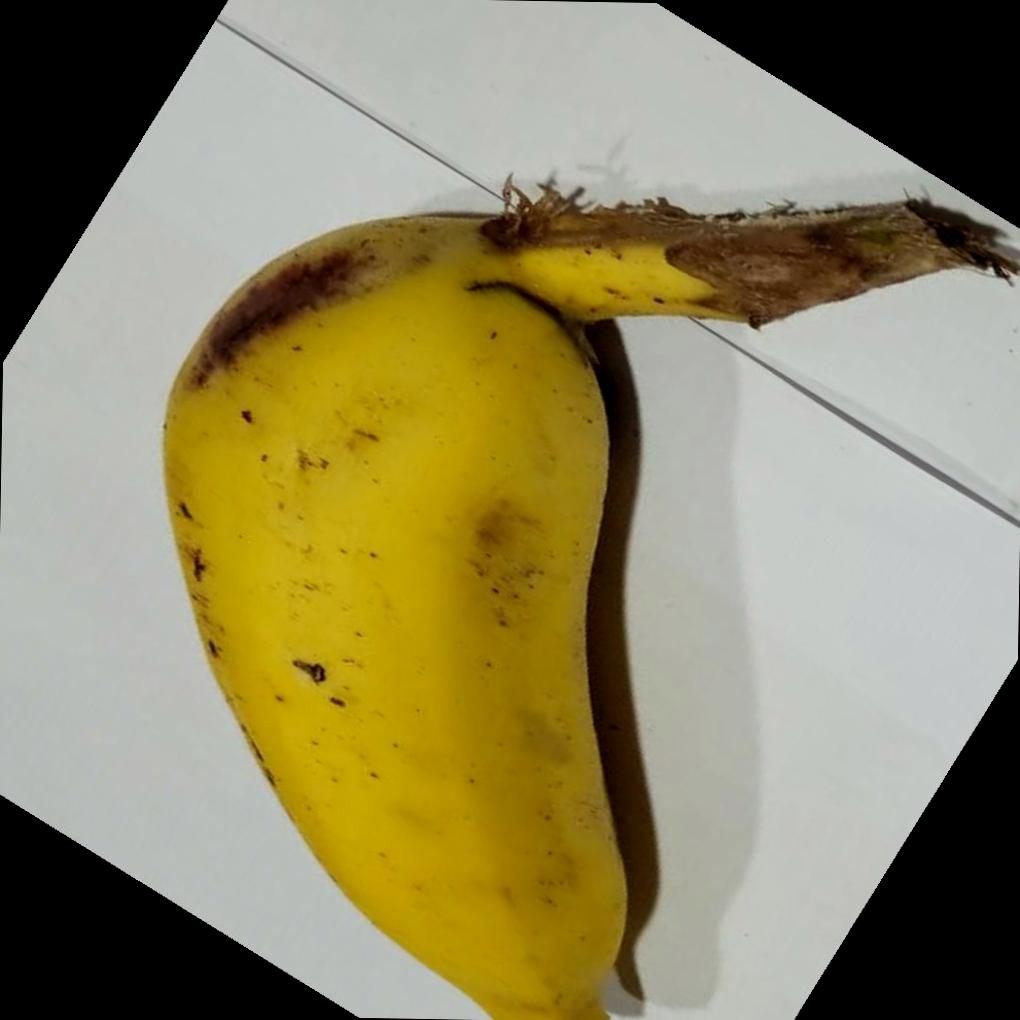Banana Ripe: (142, 139, 920, 1020)
